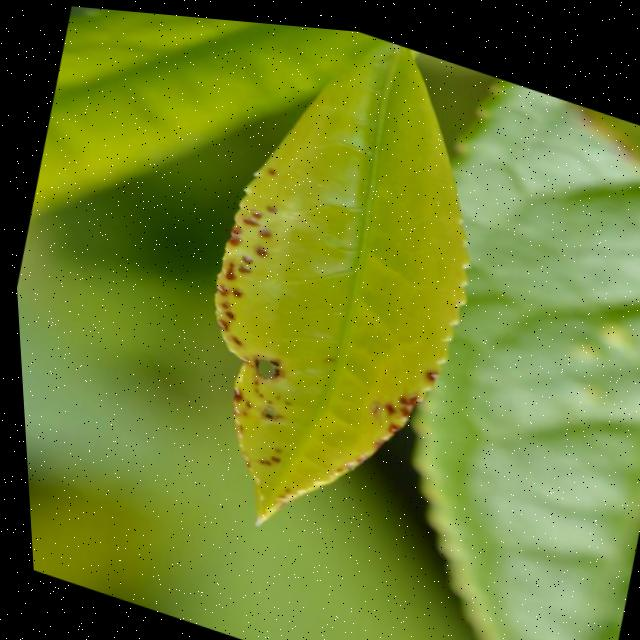Tea red scab: (227, 306, 479, 600), (146, 152, 334, 463)
